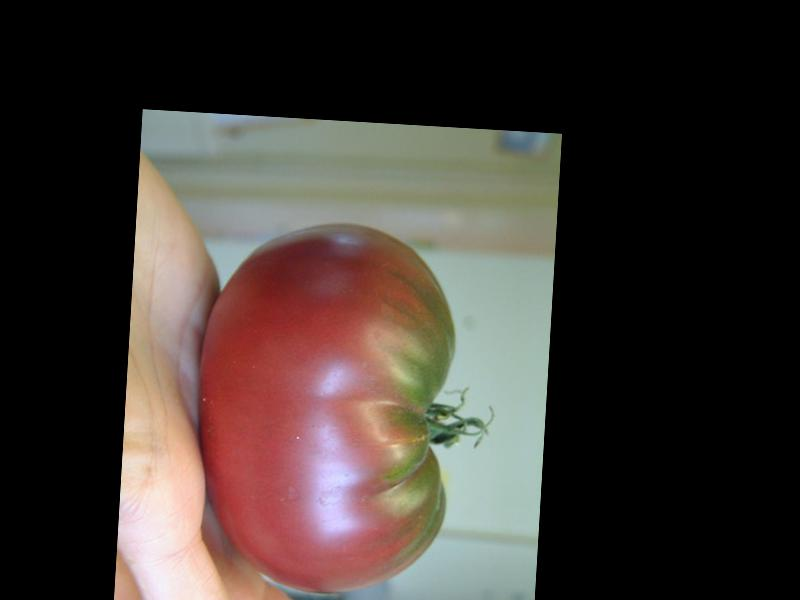Tomato: (187, 215, 462, 599)
